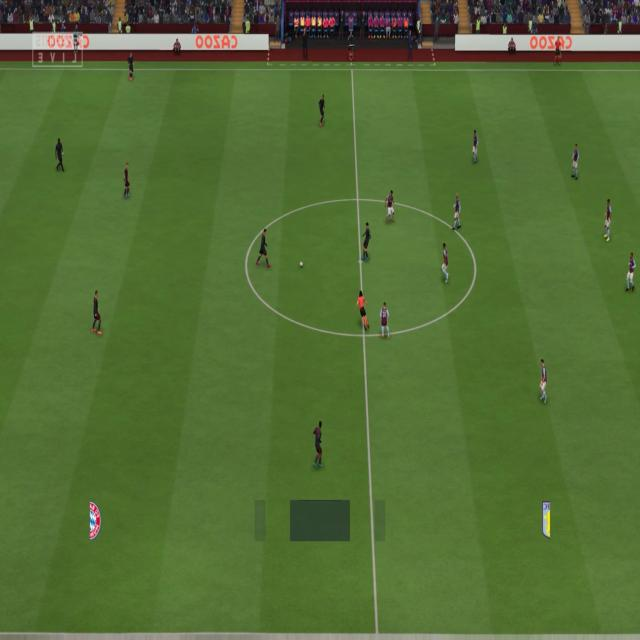Ball: (298, 262, 304, 269)
Referee: (355, 292, 369, 334)
Team-A: (90, 290, 103, 336), (254, 233, 270, 268), (314, 421, 325, 468), (360, 223, 372, 261), (54, 140, 64, 173), (318, 94, 327, 126), (122, 163, 130, 198), (126, 53, 134, 80)
Team-H: (537, 358, 548, 404), (601, 198, 612, 244), (379, 302, 391, 339), (440, 242, 450, 285), (383, 190, 395, 224), (449, 193, 460, 230), (624, 252, 634, 292), (570, 144, 580, 180), (470, 130, 479, 163)
